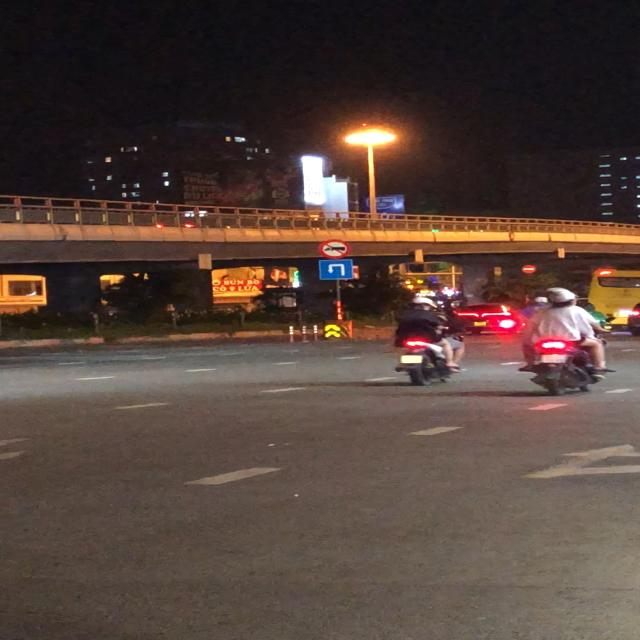Bien bao cam xe so-mi ro-mooc: (316, 238, 354, 260)
